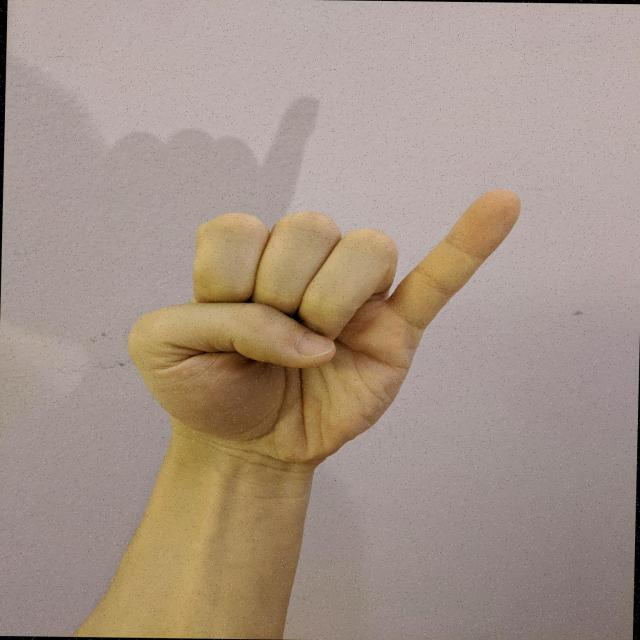I: (116, 178, 529, 475)
